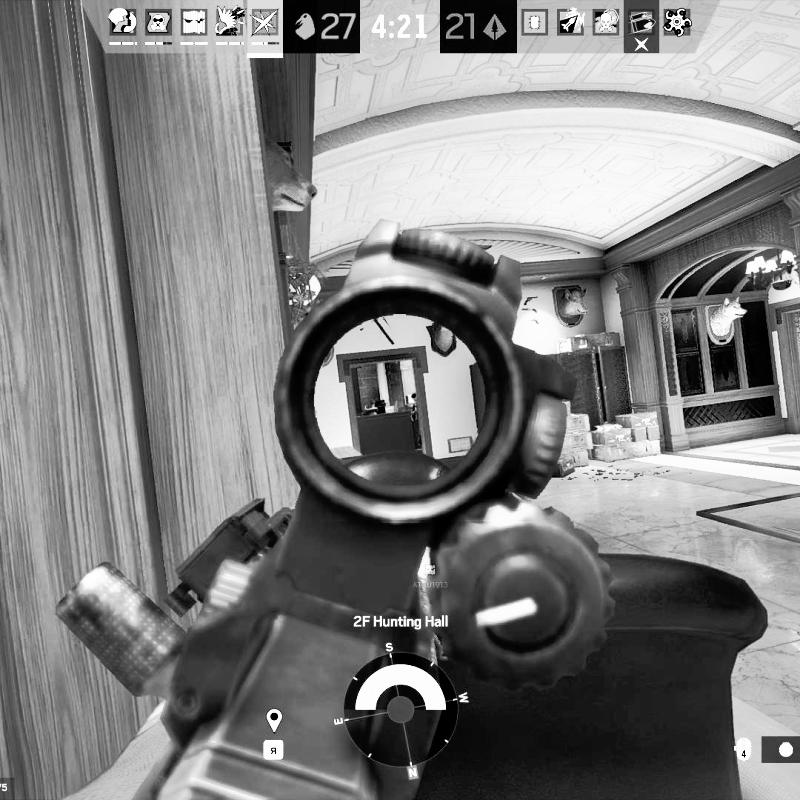Character: (409, 392, 423, 451)
Friend_label: (411, 561, 450, 592)
Head: (410, 393, 417, 402)
